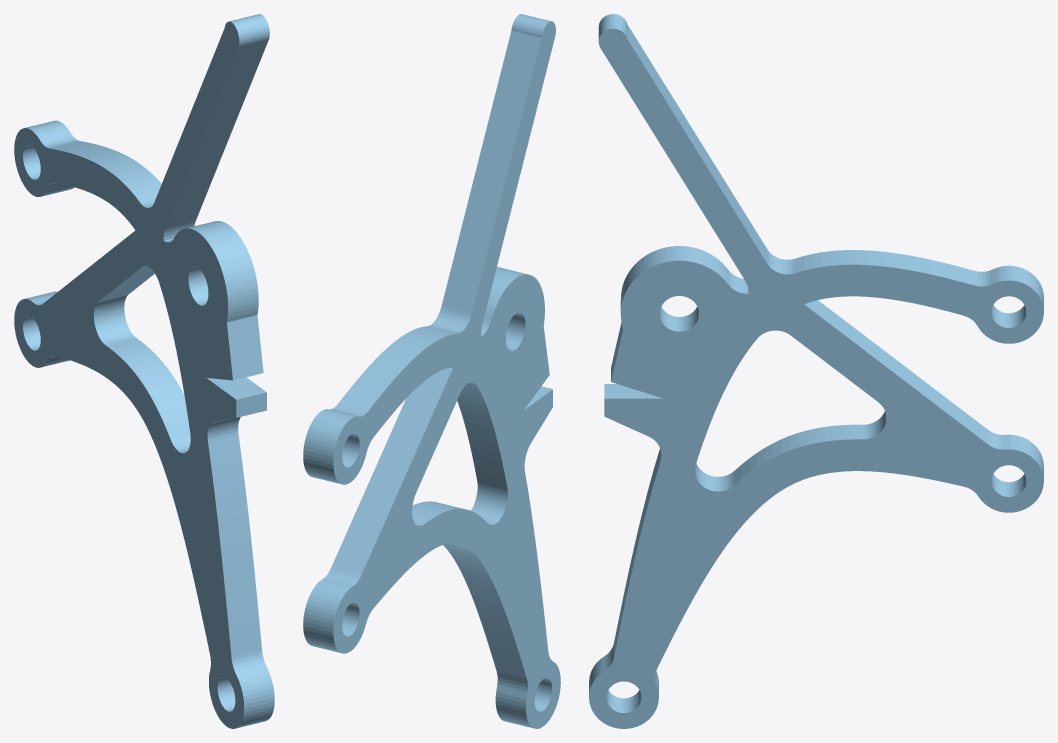
Rendered from Head.dae.
The picture shows the model from 3 angles, left to right: view 1: azimuth 30°, elevation 25°; view 2: azimuth 150°, elevation 25°; view 3: azimuth 270°, elevation 25°; orthographic projection.
Visible parts, largest first — view 1: 5c56962861567d164a537ebe; view 2: 5c56962861567d164a537ebe; view 3: 5c56962861567d164a537ebe.
Boxes of the visible parts, x1=… form: 5c56962861567d164a537ebe: x1=14, y1=14, x2=274, y2=728; 5c56962861567d164a537ebe: x1=303, y1=14, x2=560, y2=728; 5c56962861567d164a537ebe: x1=589, y1=14, x2=1043, y2=728.
Size of the model in its own units: 0.00476 by 0.062 by 0.1053.
